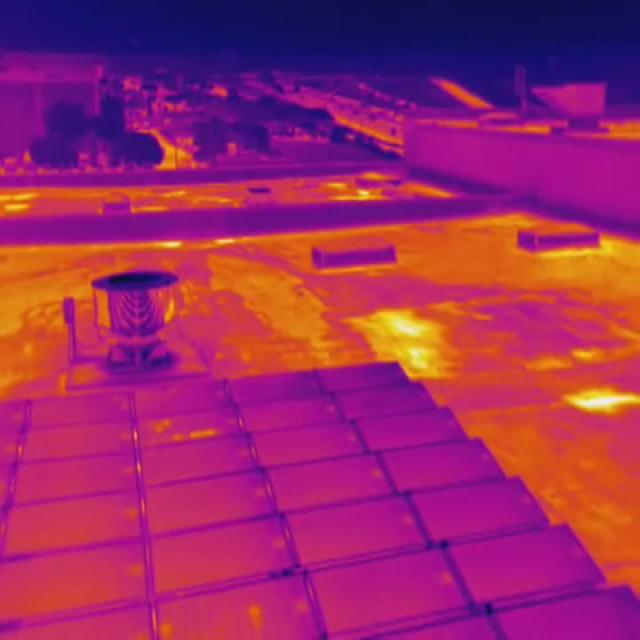Orange-Spots: (248, 602, 265, 627), (157, 619, 174, 640), (190, 428, 217, 439), (154, 419, 169, 434), (172, 431, 186, 442)
